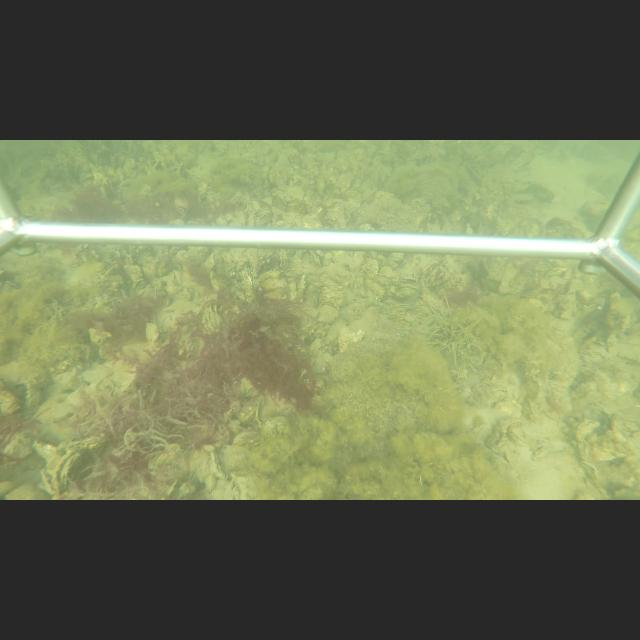Oyster-Open: (315, 299, 340, 324)
